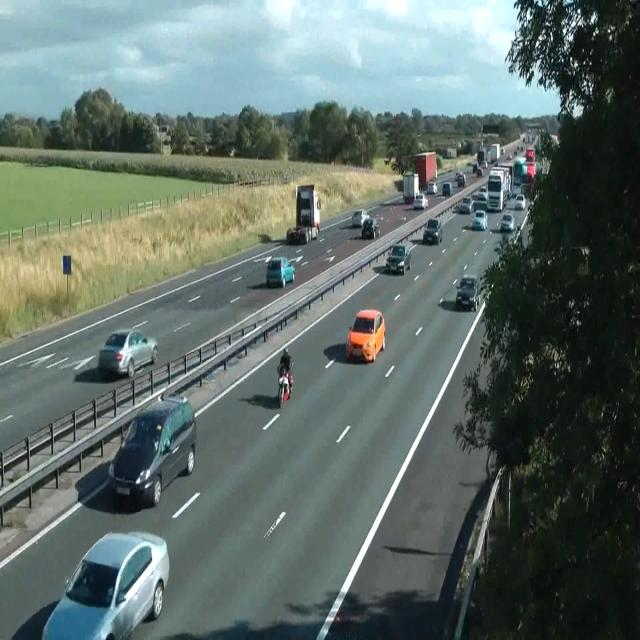bus: (41, 530, 169, 639), (98, 328, 158, 379), (346, 308, 386, 362), (266, 256, 294, 288), (456, 275, 478, 311), (386, 242, 410, 274), (423, 218, 442, 244), (361, 218, 379, 239), (286, 227, 306, 244), (471, 209, 487, 230), (351, 209, 369, 227), (499, 212, 515, 232), (413, 192, 428, 210), (459, 196, 472, 214), (514, 193, 526, 210), (442, 182, 452, 196), (455, 172, 465, 186), (427, 180, 437, 194), (472, 163, 482, 176), (478, 186, 488, 199), (477, 167, 482, 177)
jeep: (107, 393, 197, 507)
lorry: (276, 349, 294, 407)
minibus: (296, 184, 320, 239), (486, 166, 510, 212), (413, 151, 437, 192), (509, 156, 527, 196), (402, 172, 418, 204), (525, 148, 535, 178), (490, 142, 500, 164), (477, 148, 487, 166)
